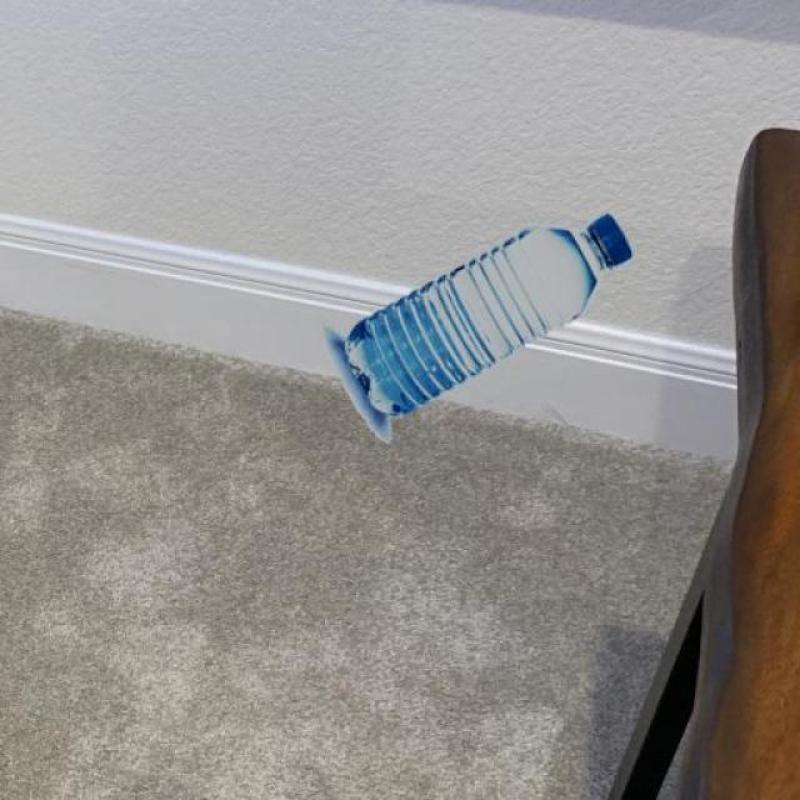botella: (341, 211, 633, 417)
